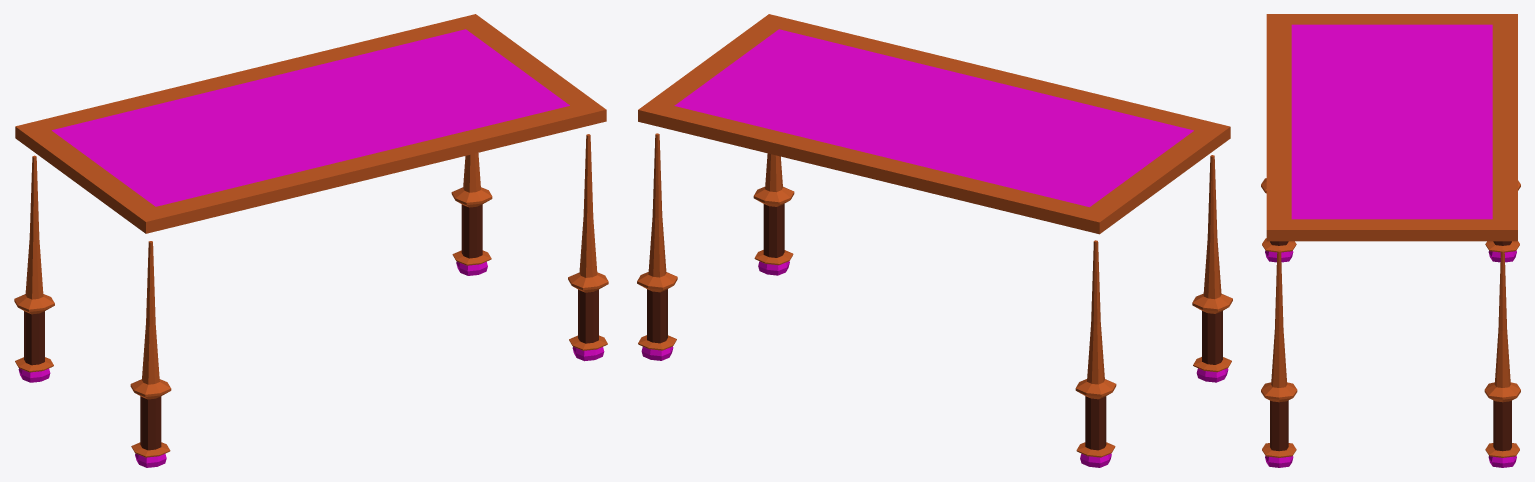
File: WandTable.fbx
3 renders of one model, left to right at view 1: azimuth 30°, elevation 25°; view 2: azimuth 150°, elevation 25°; view 3: azimuth 270°, elevation 25°, orthographic. The views are drawn at different scales.
Parts seen in each view (by area): view 1: TableWand; view 2: TableWand; view 3: TableWand.
Part boxes in pixels (<box>): TableWand: <box>14,14,608,467</box>; TableWand: <box>637,14,1232,467</box>; TableWand: <box>1261,14,1520,467</box>.
Bounding box in the file's own units: 208 × 105 × 103.
